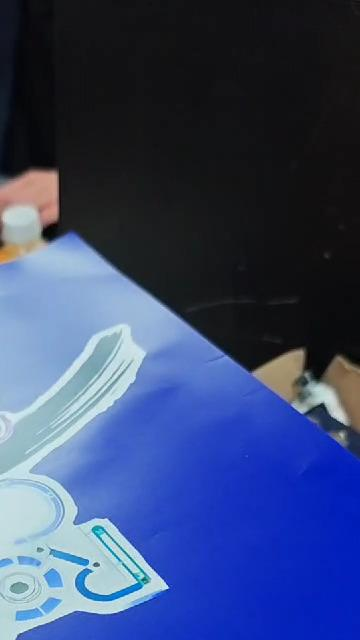B_R1: (0, 315, 150, 640)
